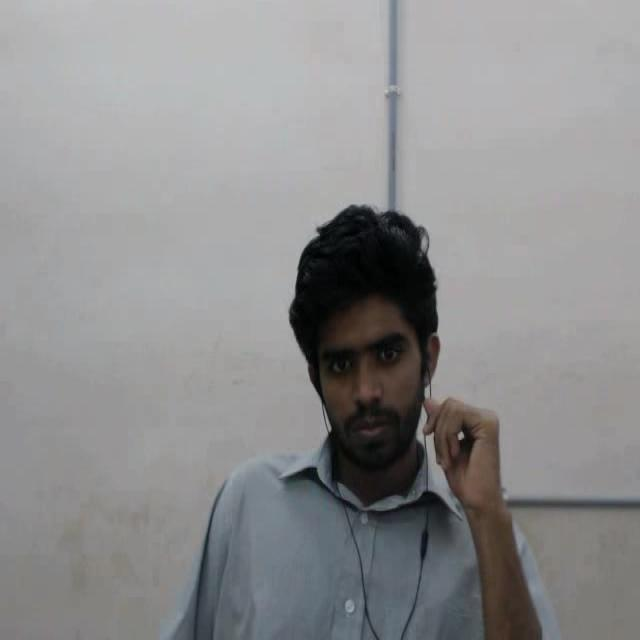Engaged: (264, 179, 444, 501)
